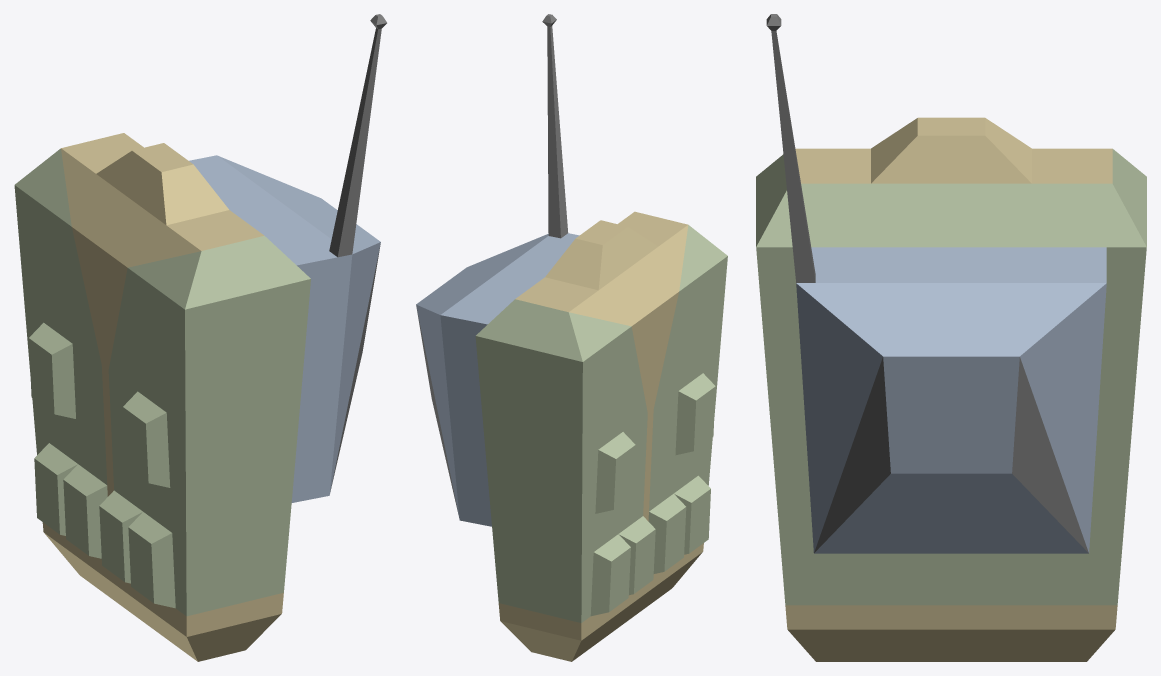
The model's file is Bandit5Torso.fbx.
3 renders of one model, left to right at view 1: azimuth 30°, elevation 25°; view 2: azimuth 150°, elevation 25°; view 3: azimuth 270°, elevation 25°, orthographic. The views are drawn at different scales.
Parts seen in each view (by area): view 1: Bandit5Torso; view 2: Bandit5Torso; view 3: Bandit5Torso.
Part boxes in pixels (box(x1,y1,x2,y2)): Bandit5Torso: box(14, 14, 386, 661); Bandit5Torso: box(416, 14, 727, 661); Bandit5Torso: box(756, 14, 1146, 661).
Bounding box in the file's own units: 0.4339 × 0.9751 × 0.4856.
